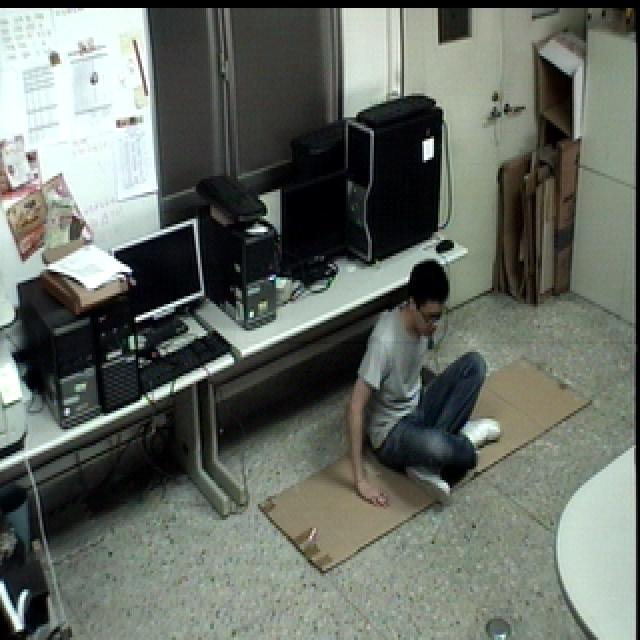sit: (342, 245, 508, 505)
